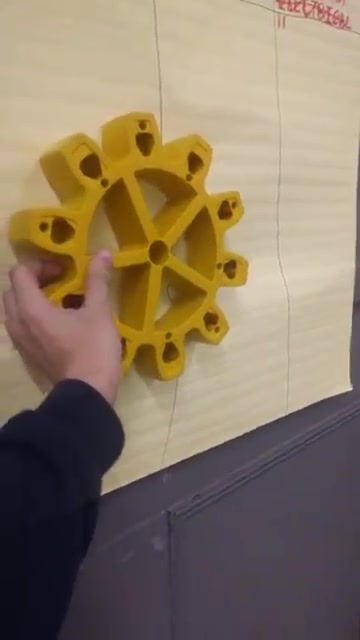gear: (8, 108, 259, 385)
